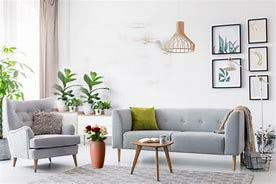copymove: (53, 64, 79, 112)
removal: (110, 4, 167, 52)
spliced: (84, 124, 107, 169)
